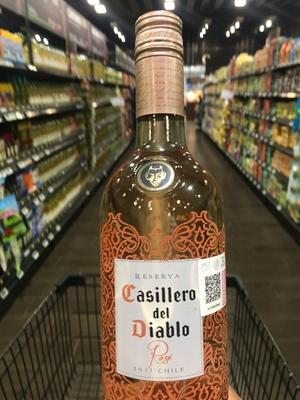casillero del diablo rose: (90, 20, 248, 400)
